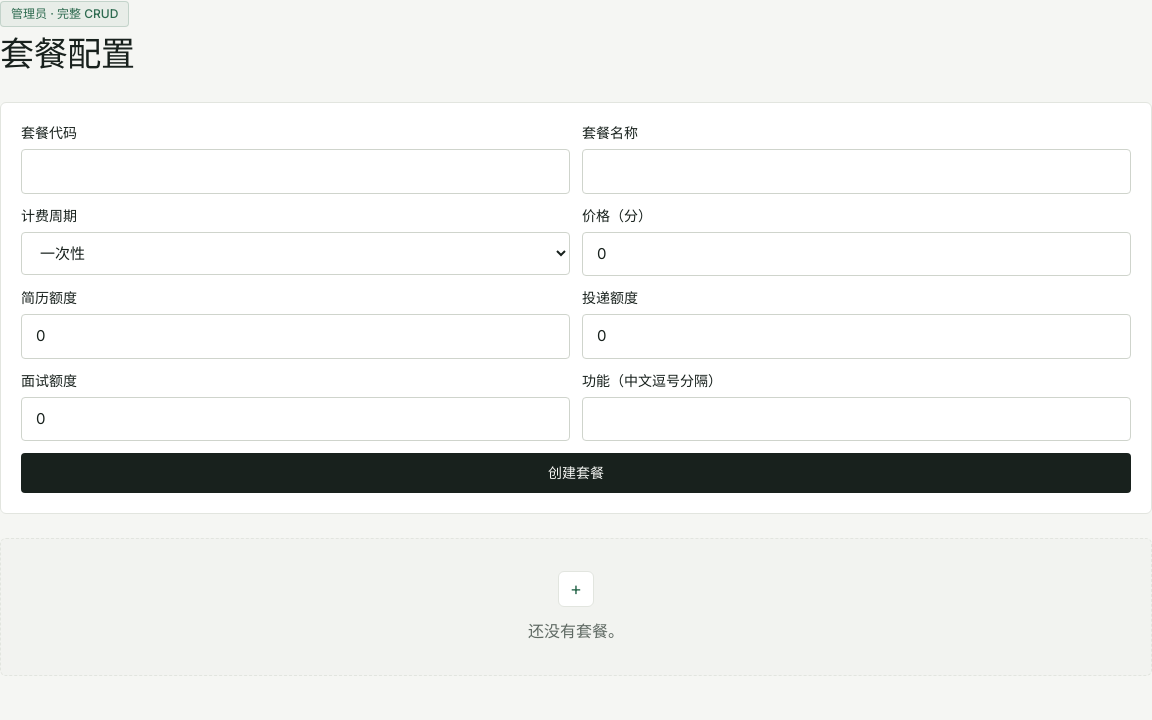
Test: 管理员可以创建套餐
This screenshot has width=1152, height=720.
Type "career_plus" into the field labelled "套餐代码" at (296, 171), box [21,149,570,194]
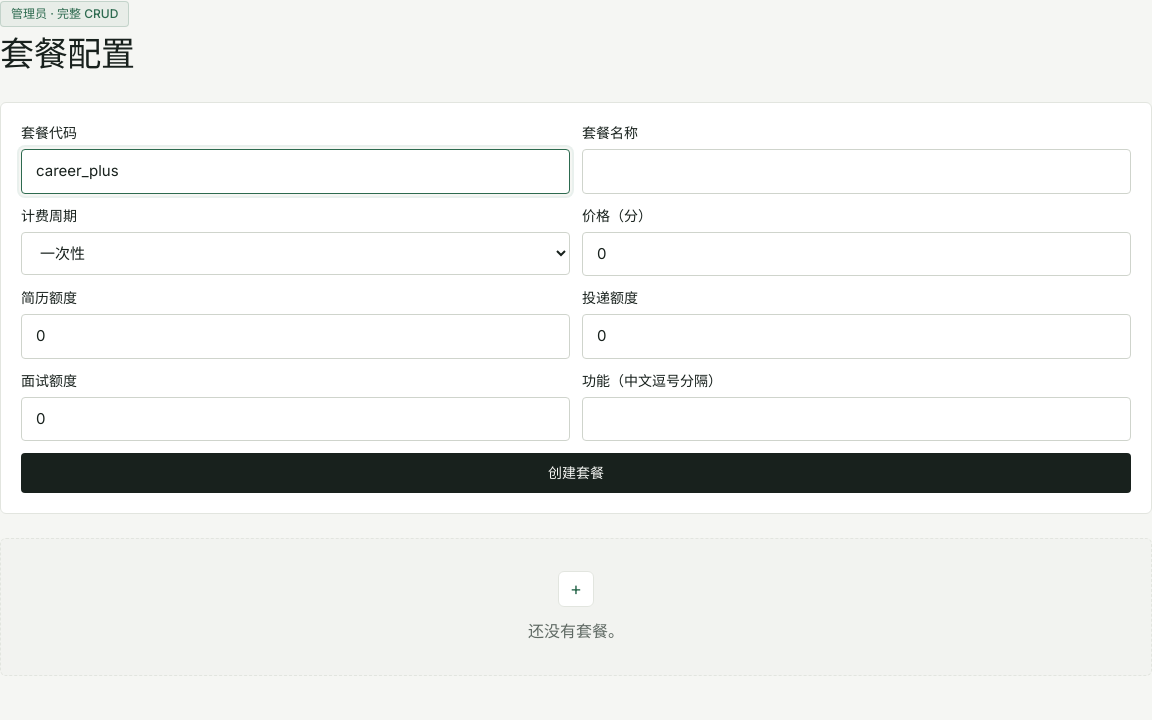
Type "求职进阶版" into the field labelled "套餐名称" at (856, 171), box [582,149,1131,194]
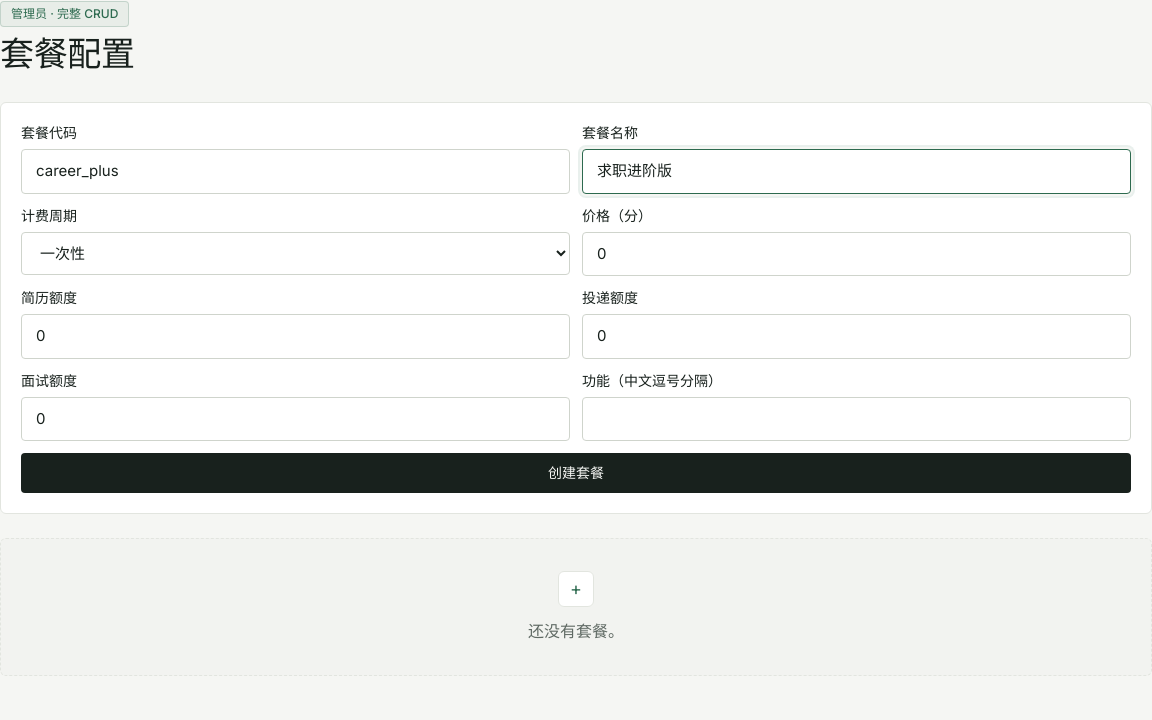
Click the button "创建套餐" at (576, 473), box [21,453,1131,493]
(page scrolled)
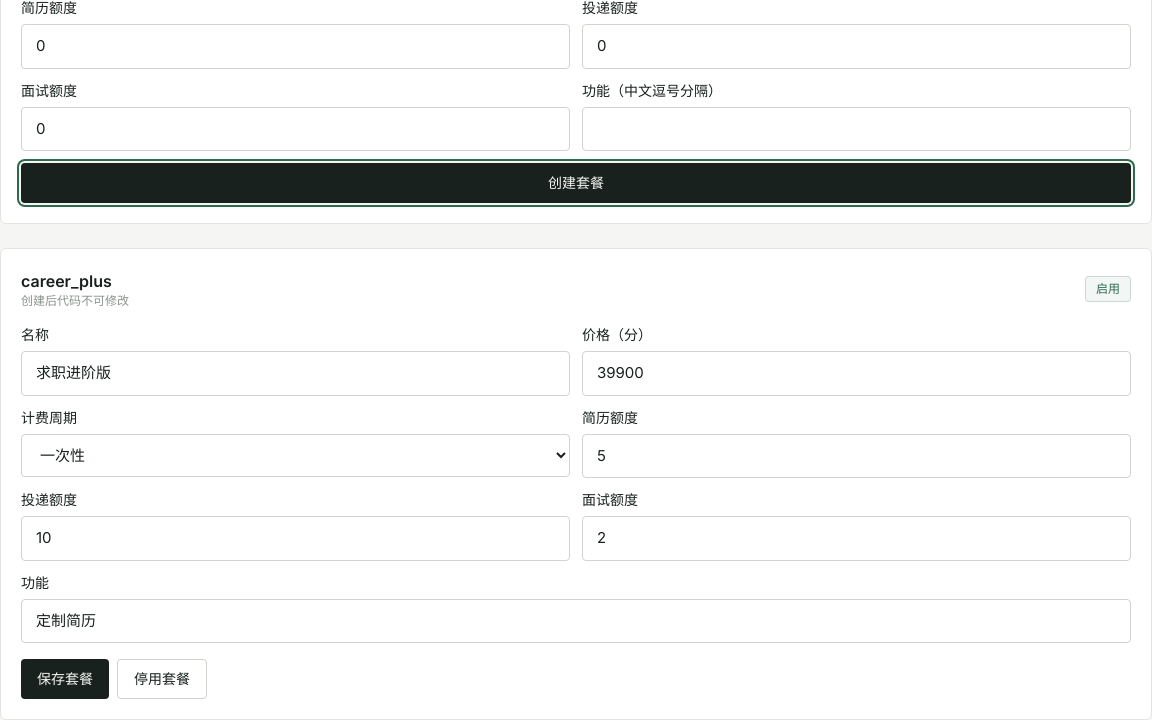
Expected: the heading "career_plus" is shown, [21,271,112,291]
Expected: the button "保存套餐" is shown, [21,659,109,699]
